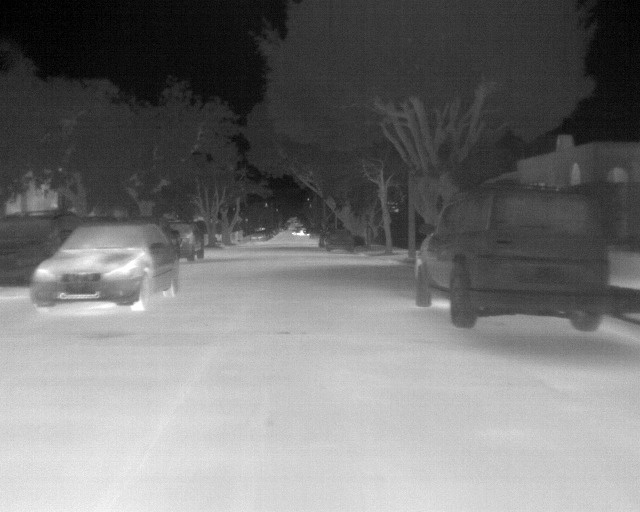vehicle: (415, 188, 610, 329), (33, 222, 179, 318), (161, 218, 205, 265)
